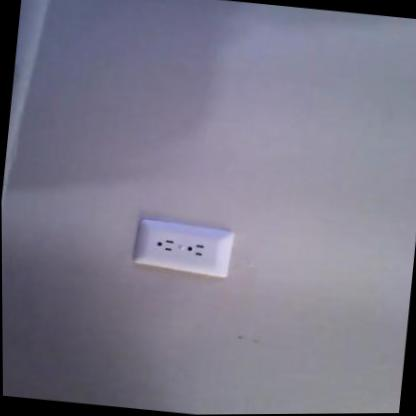OUTLET: (130, 213, 235, 279)
